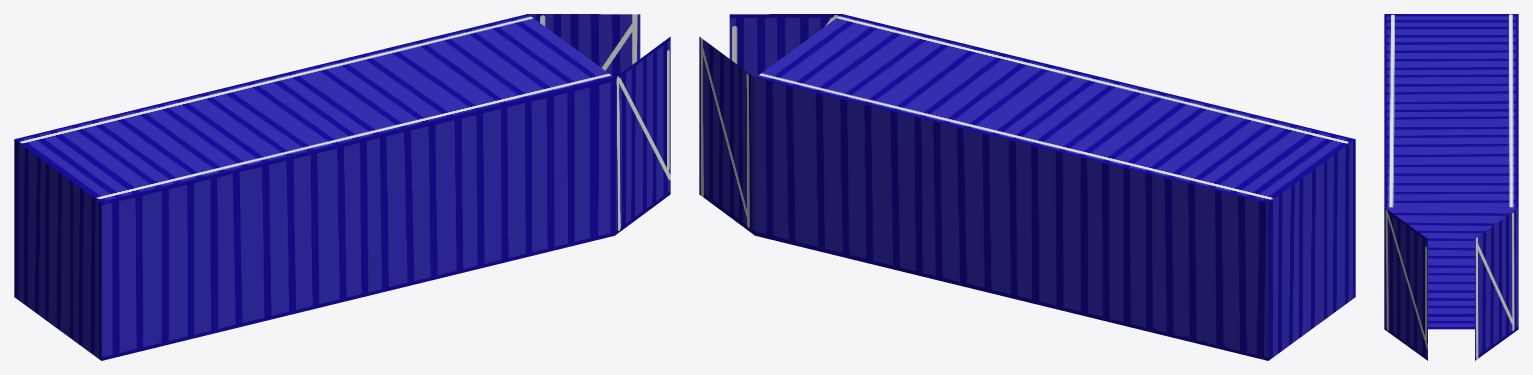
Rendered from blue_cargo.gltf.
3 views of the same model, side by side, from view 1: azimuth 30°, elevation 25°; view 2: azimuth 150°, elevation 25°; view 3: azimuth 270°, elevation 25° (orthographic). The views are drawn at different scales.
Parts seen in each view (by area): view 1: Cube.137; view 2: Cube.137; view 3: Cube.137.
Part boxes in pixels (x1,y1,x2,y2): Cube.137: [14, 14, 670, 360]; Cube.137: [699, 14, 1355, 360]; Cube.137: [1384, 14, 1518, 360].
Size of the model in its own units: 27.37 by 6.92 by 6.92.
1 material, 1 textured.
